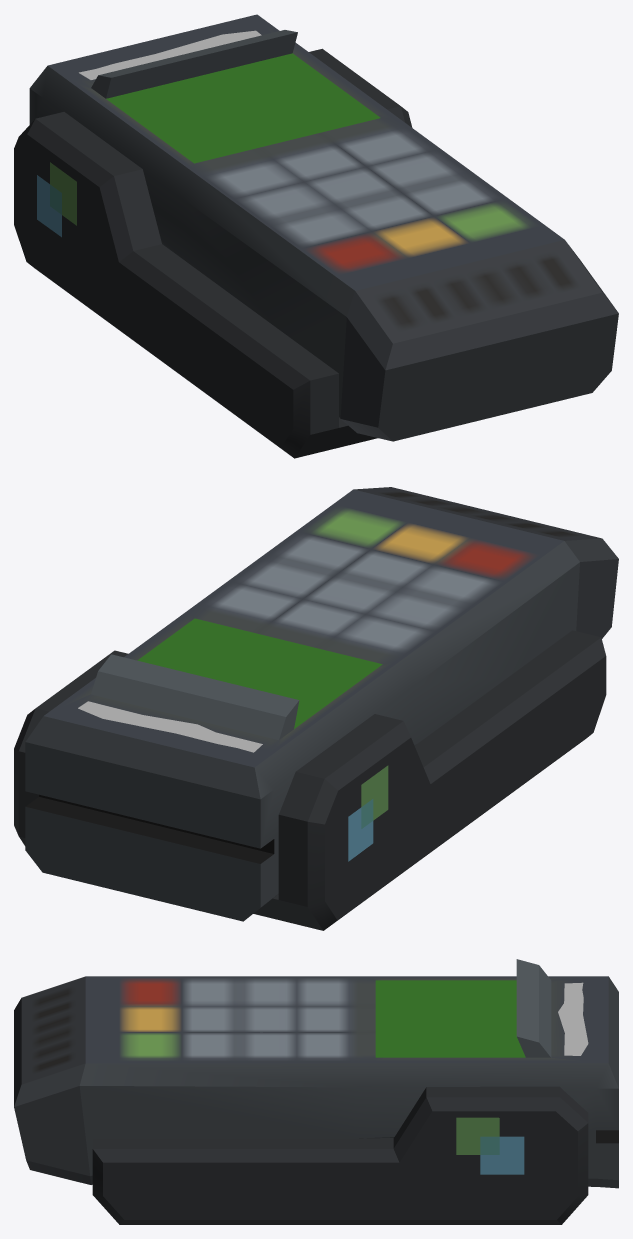
The model's file is SM_Prop_Card_Reader_01.fbx.
The picture shows the model from 3 angles, top to bottom: view 1: azimuth 30°, elevation 25°; view 2: azimuth 150°, elevation 25°; view 3: azimuth 270°, elevation 25°; orthographic projection. The views are drawn at different scales.
Parts seen in each view (by area): view 1: SM_Prop_Card_Reader_01; view 2: SM_Prop_Card_Reader_01; view 3: SM_Prop_Card_Reader_01.
Boxes of the visible parts, box(x1,y1,x2,y2) form: SM_Prop_Card_Reader_01: box(14, 14, 618, 458); SM_Prop_Card_Reader_01: box(14, 487, 618, 930); SM_Prop_Card_Reader_01: box(14, 959, 618, 1224).
Size of the model in its own units: 15.39 by 9.4 by 30.72.
